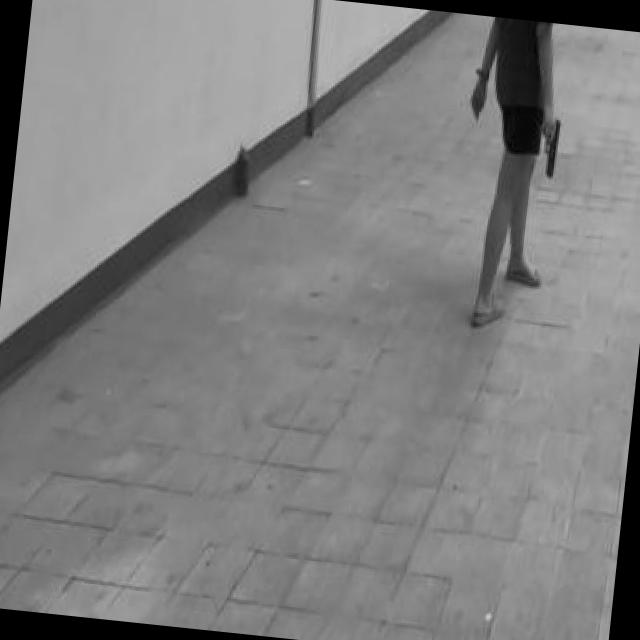Guns: (529, 110, 570, 188)
